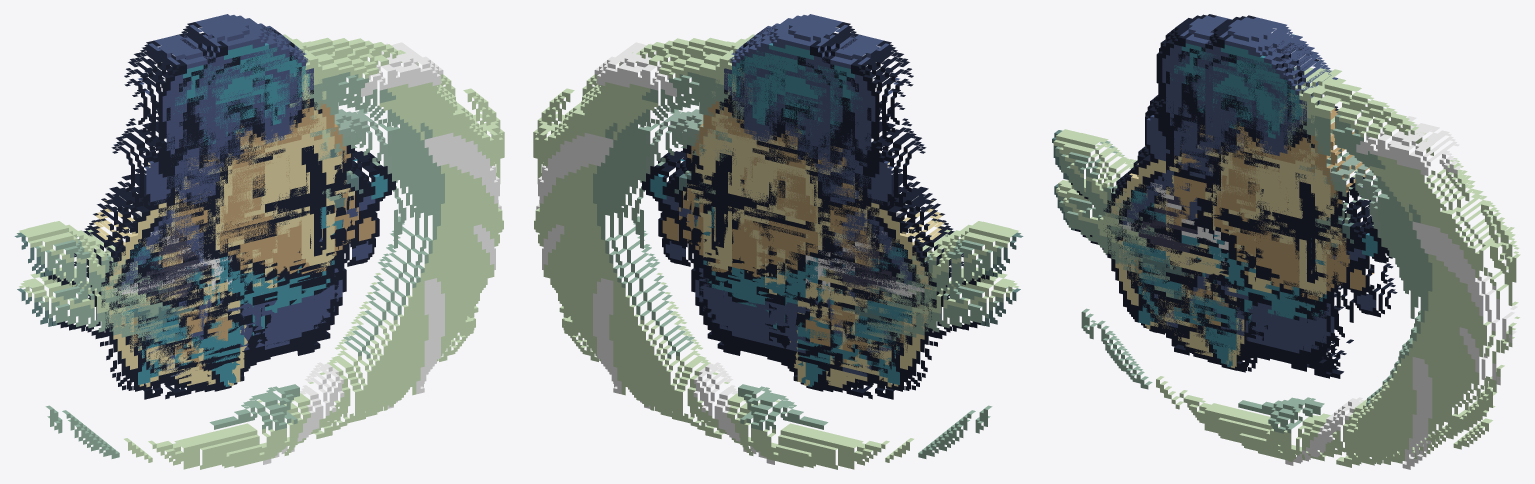
File: guerreiro_golpe2.glb
3 renders of one model, left to right at view 1: azimuth 30°, elevation 25°; view 2: azimuth 150°, elevation 25°; view 3: azimuth 330°, elevation 25°, orthographic. The views are drawn at different scales.
Visible parts, largest first — view 1: q2, q0, q1, q3; view 2: q2, q0, q1, q3; view 3: q2, q0, q1, q3.
Part boxes in pixels (x1=…): q2: x1=45, y1=25, x2=503, y2=469; q0: x1=17, y1=23, x2=358, y2=381; q1: x1=14, y1=14, x2=354, y2=391; q3: x1=86, y1=33, x2=504, y2=467; q2: x1=534, y1=25, x2=992, y2=469; q0: x1=679, y1=23, x2=1020, y2=381; q1: x1=683, y1=14, x2=1023, y2=391; q3: x1=533, y1=33, x2=951, y2=467; q2: x1=1081, y1=41, x2=1519, y2=469; q0: x1=1054, y1=32, x2=1373, y2=378; q1: x1=1052, y1=15, x2=1369, y2=377; q3: x1=1115, y1=14, x2=1520, y2=464.
Size of the model in its own units: 118 by 104 by 14.
1 material, 1 textured.
